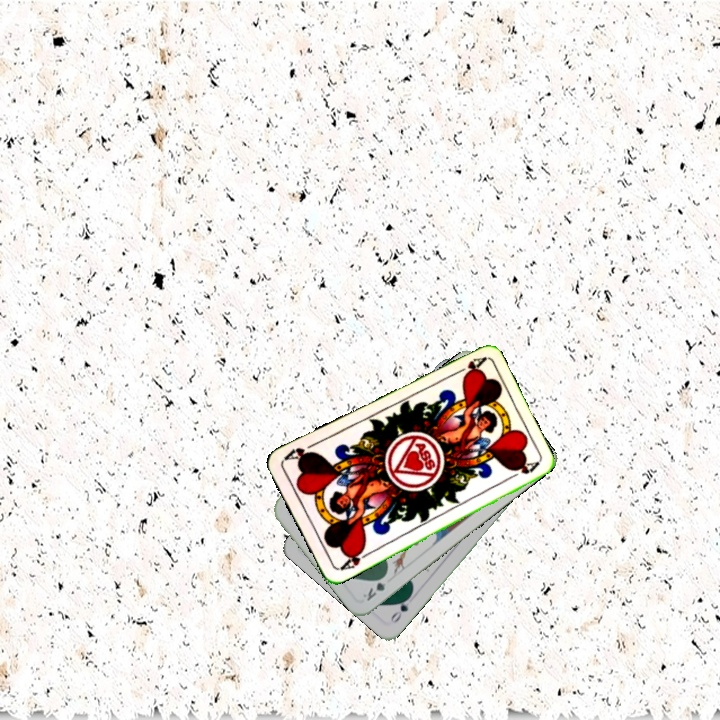GK: (359, 570, 390, 604)
GO: (386, 590, 414, 626)
HA: (335, 544, 373, 573), (449, 353, 487, 381)
